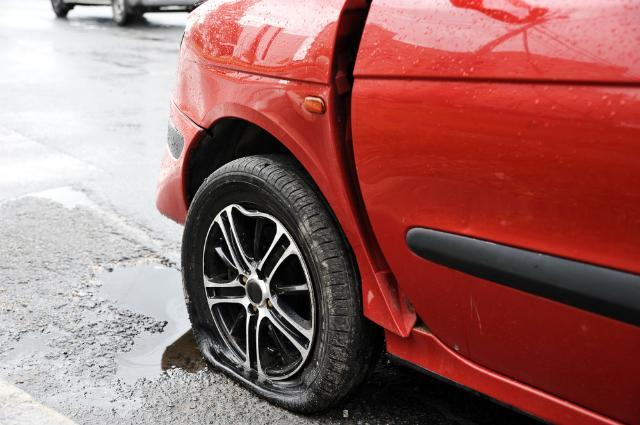dislocated part: (325, 10, 426, 328)
tire flat: (182, 154, 382, 415)
